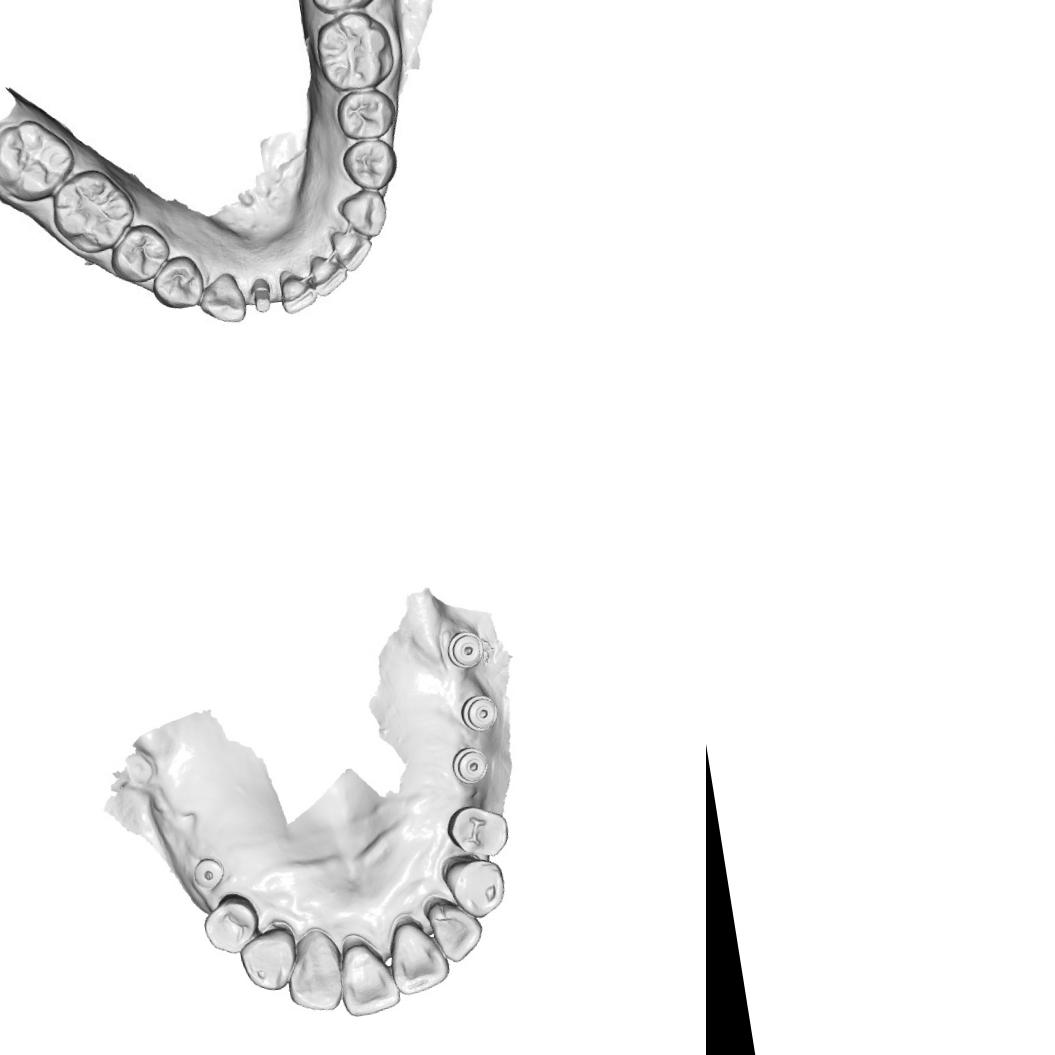abutment: (246, 275, 274, 315)
canine: (438, 849, 510, 925), (235, 925, 302, 995), (332, 186, 394, 243), (192, 270, 250, 329)
implant: (443, 626, 489, 672), (456, 691, 503, 736), (448, 744, 492, 788), (190, 853, 227, 893)
incisor: (279, 925, 350, 1017), (332, 930, 402, 1020), (384, 914, 452, 996), (425, 892, 488, 966), (270, 267, 319, 318), (330, 226, 376, 275), (306, 250, 350, 300)
molar: (46, 164, 142, 260), (0, 111, 81, 208), (310, 7, 399, 95), (298, 0, 387, 18)
premolar: (103, 220, 174, 287), (199, 888, 263, 958), (444, 799, 512, 863), (331, 84, 401, 144), (338, 134, 404, 196), (146, 251, 208, 313)
